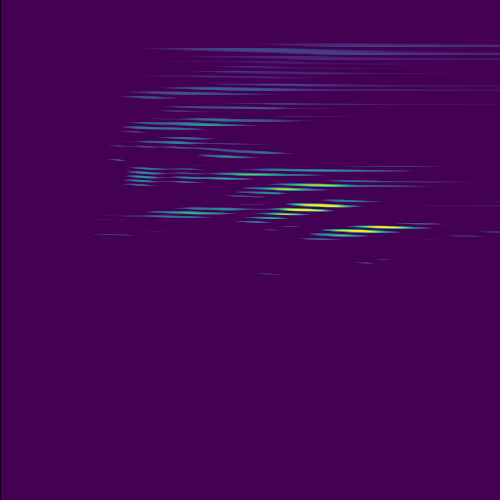semblance: (248, 195, 371, 223), (301, 219, 425, 241), (244, 177, 354, 197)
